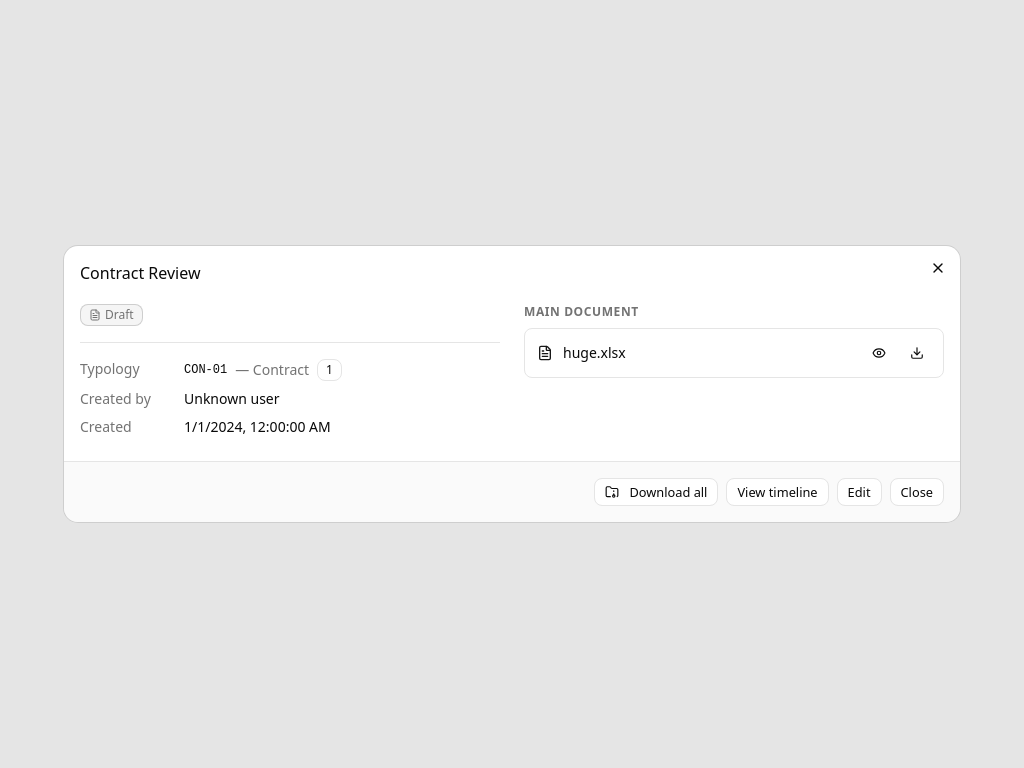
Test: DetailWorkflowDialog — main document preview › caps the rendered grid and shows a truncation notice for a sheet with a far-off cell
Click the button named "Preview document": (879, 353) top-left (865, 339), bottom-right (893, 367)
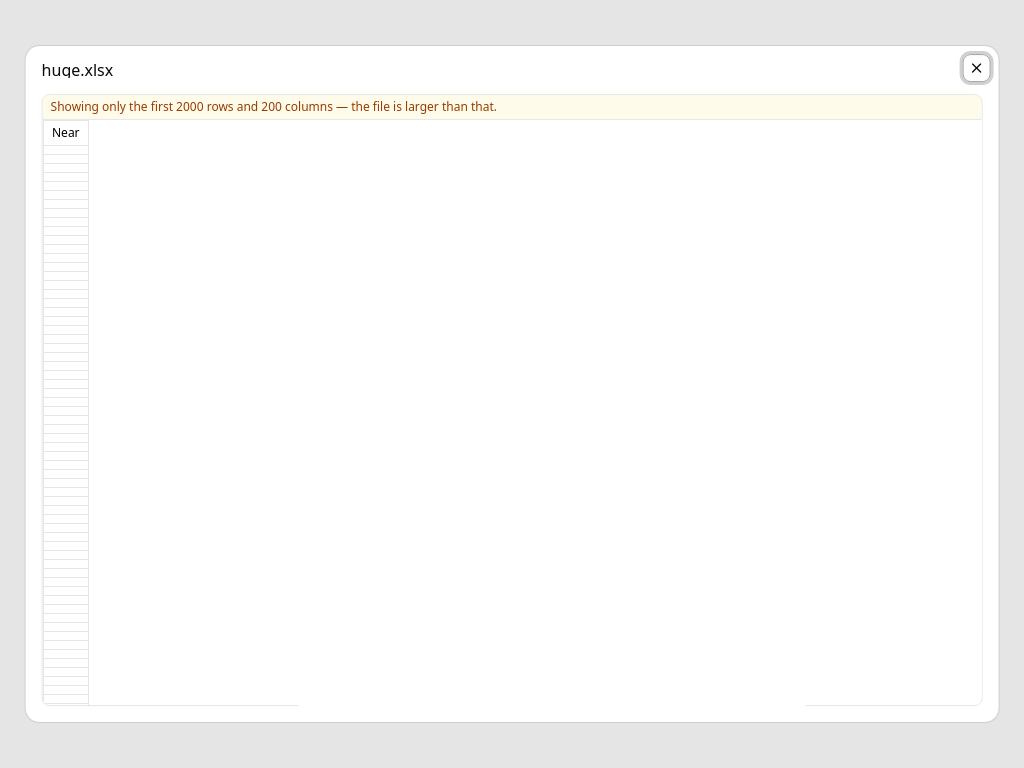
Now the text "Near" is shown, box top-left (43, 121), bottom-right (88, 146)
Now the text "2000" is shown, box top-left (51, 98), bottom-right (497, 115)
